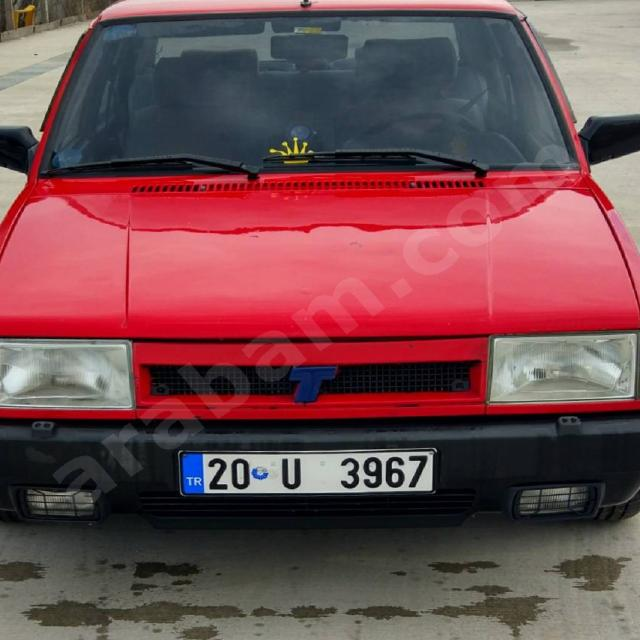license_plate: (180, 448, 437, 494)
